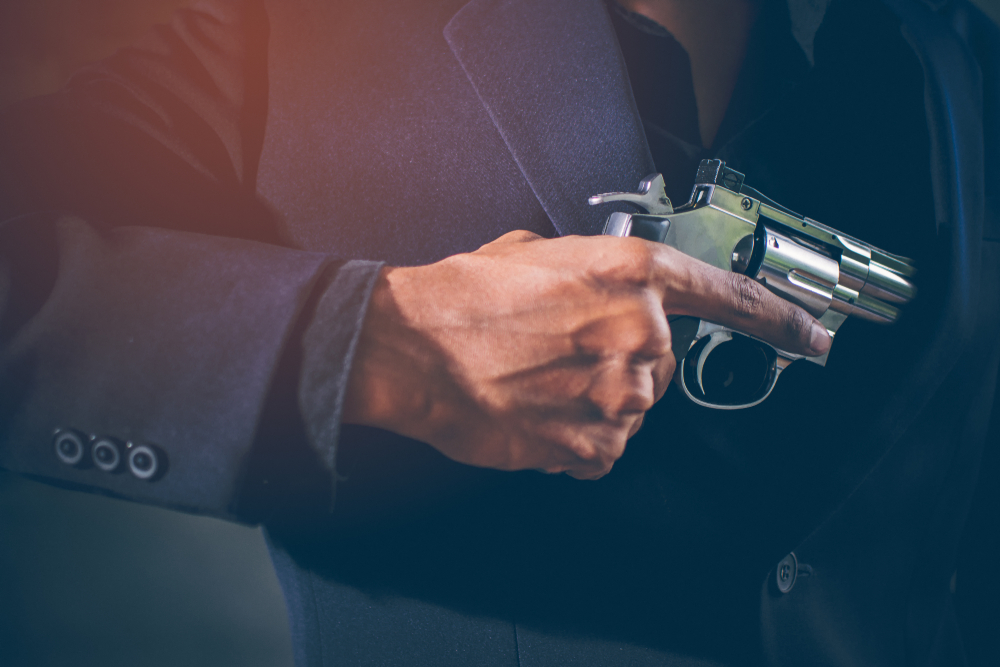Revolver: (539, 120, 945, 428)
